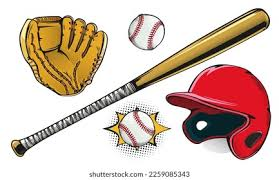baseball bat: (11, 8, 270, 157)
